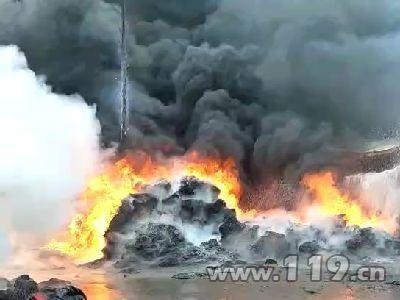fire: (39, 157, 147, 265), (297, 168, 399, 235)
